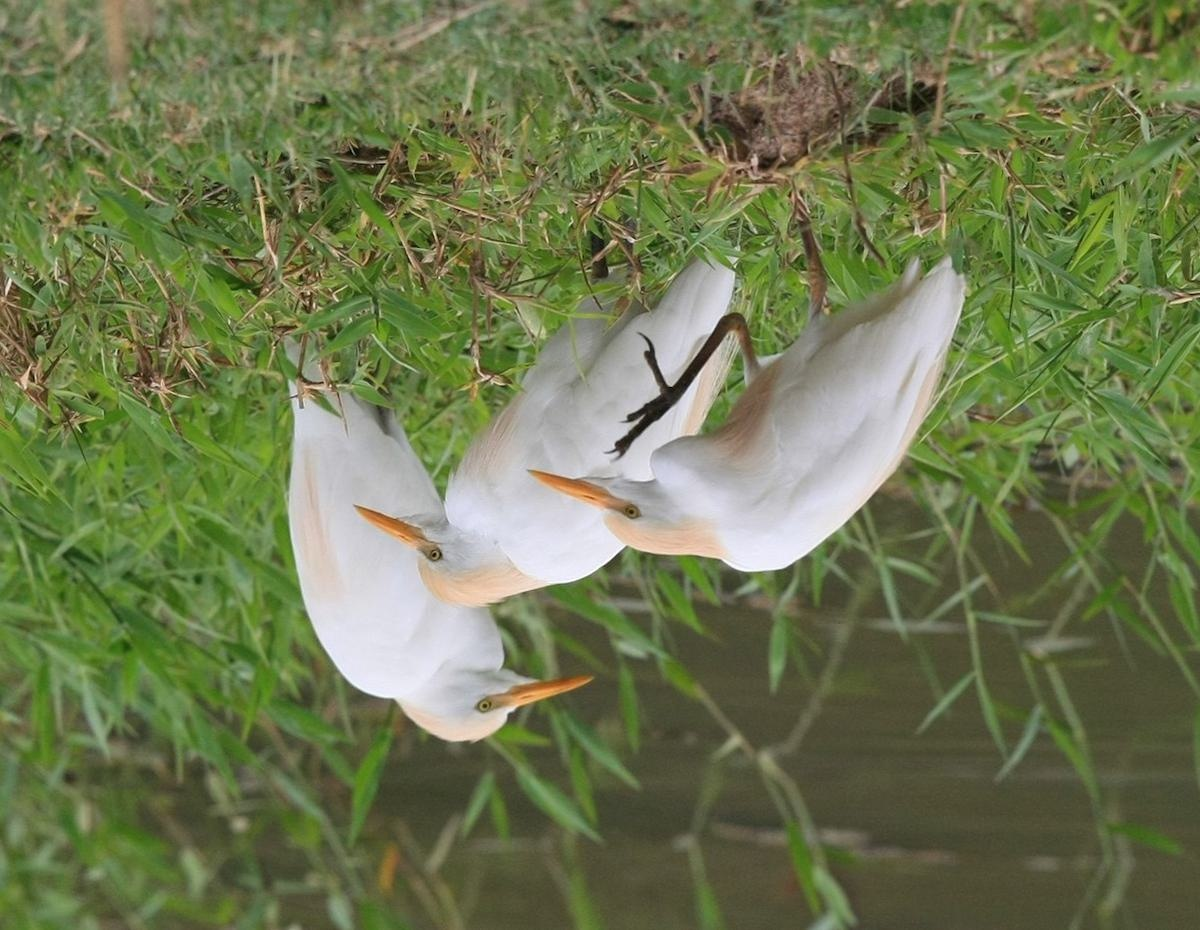egret: (532, 248, 998, 577), (241, 368, 607, 758), (361, 414, 548, 639)
